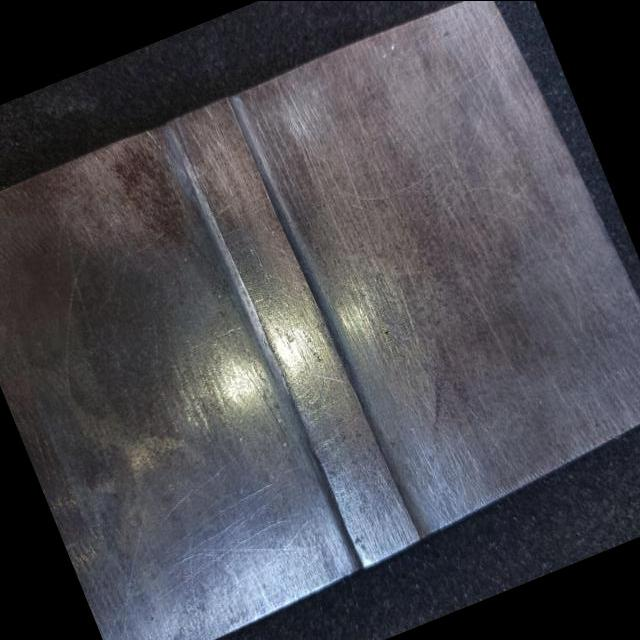defect: (251, 240, 324, 400)
